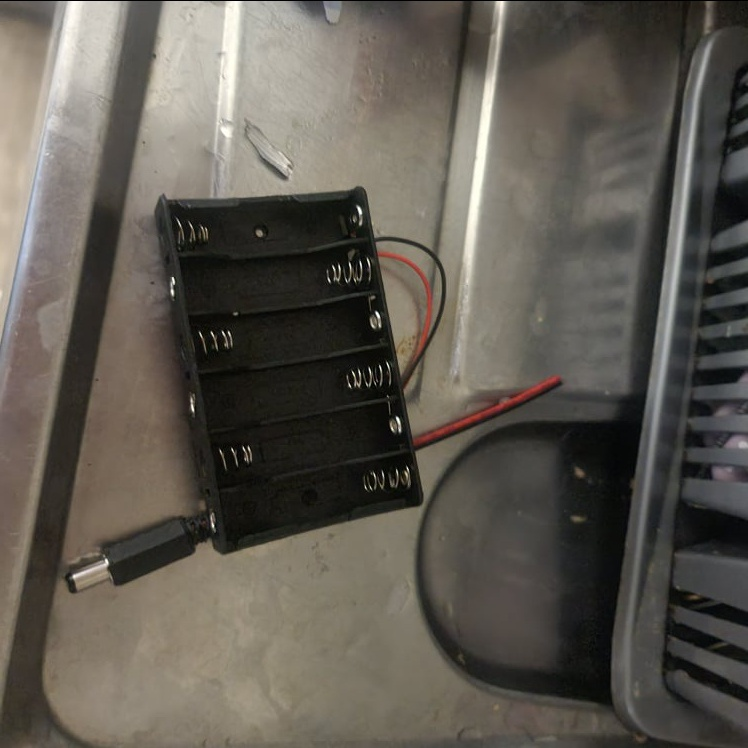BATTERY BOX: (155, 183, 425, 548)
